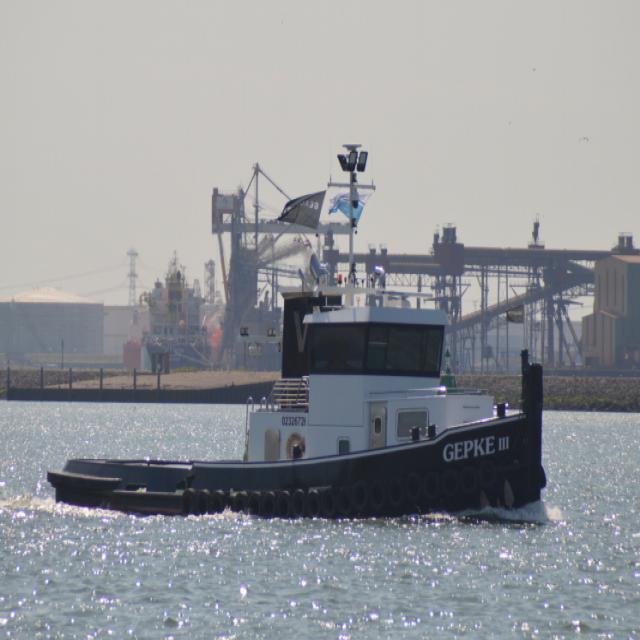tugboat: (43, 139, 554, 548)
